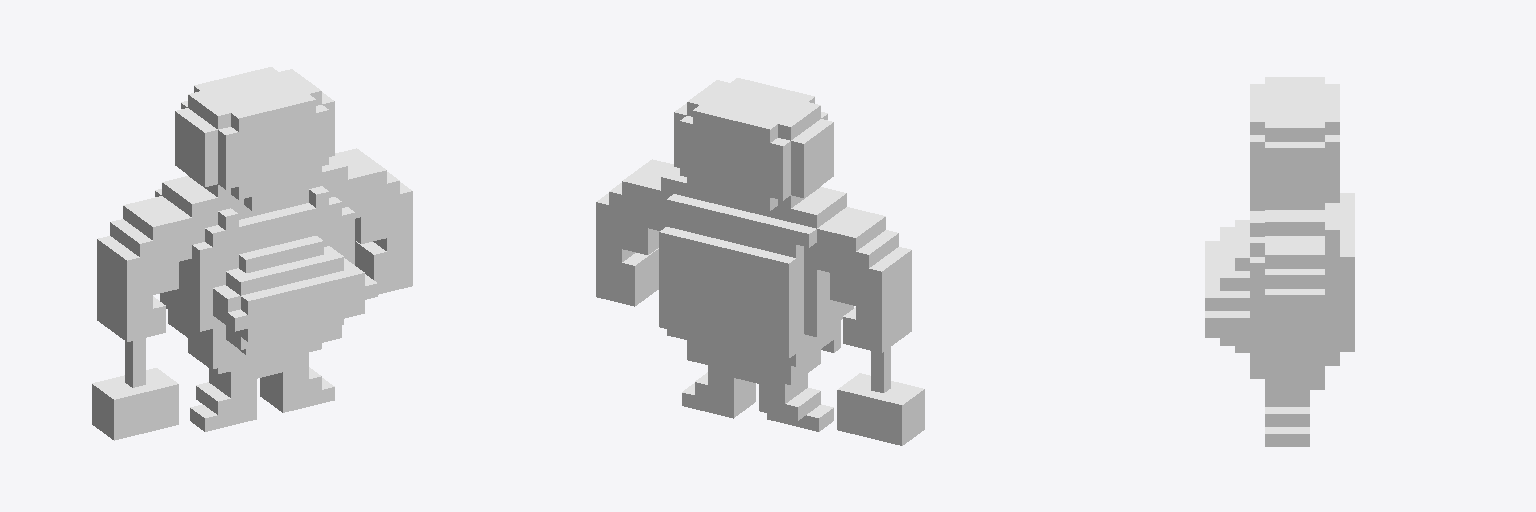
The model's file is Ork.obj.
3 views of the same model, side by side, from view 1: azimuth 30°, elevation 25°; view 2: azimuth 150°, elevation 25°; view 3: azimuth 270°, elevation 25° (orthographic).
Parts seen in each view (by area): view 1: object 1; view 2: object 1; view 3: object 1.
Boxes of the visible parts, x1,y1,x2,y2 form: object 1: [92, 67, 412, 440]; object 1: [596, 78, 924, 445]; object 1: [1205, 77, 1354, 446].
Size of the model in its own units: 2.3 by 2.3 by 1.